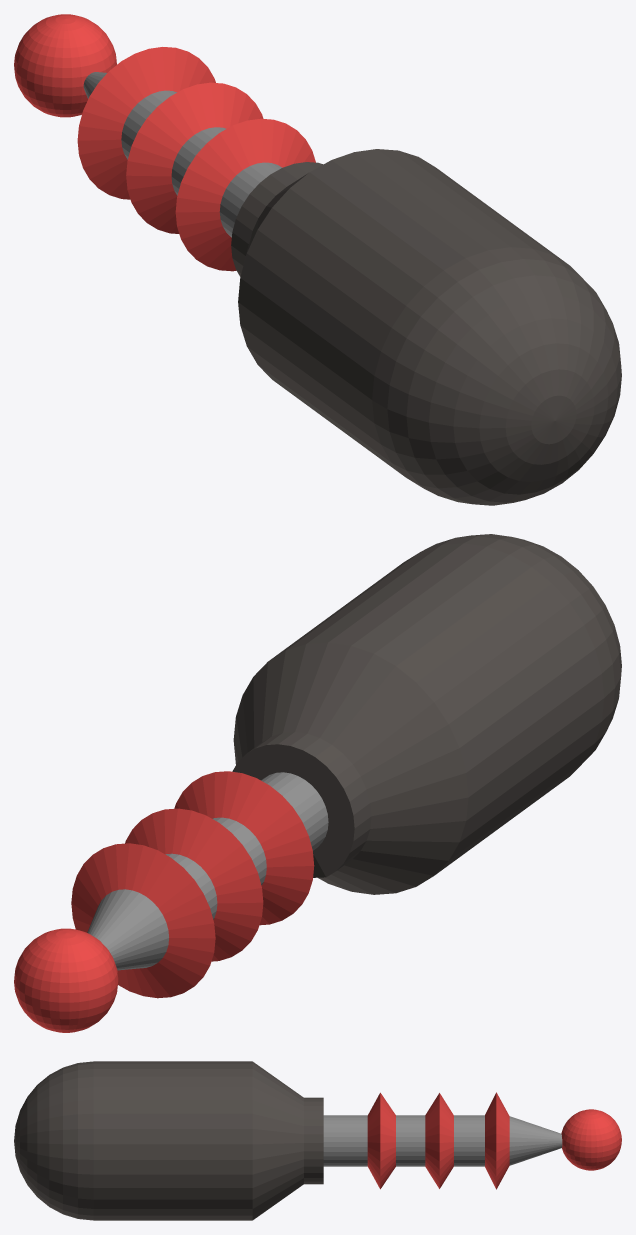
Rendered from Laser.fbx.
The picture shows the model from 3 angles, top to bottom: view 1: azimuth 30°, elevation 25°; view 2: azimuth 150°, elevation 25°; view 3: azimuth 270°, elevation 25°; orthographic projection. The views are drawn at different scales.
Parts seen in each view (by area): view 1: Sphere; view 2: Sphere; view 3: Sphere.
Part boxes in pixels (<box>): Sphere: <box>14,14,621,505</box>; Sphere: <box>14,534,621,1032</box>; Sphere: <box>14,1061,621,1220</box>.
Bounding box in the file's own units: 200 × 200 × 764.
